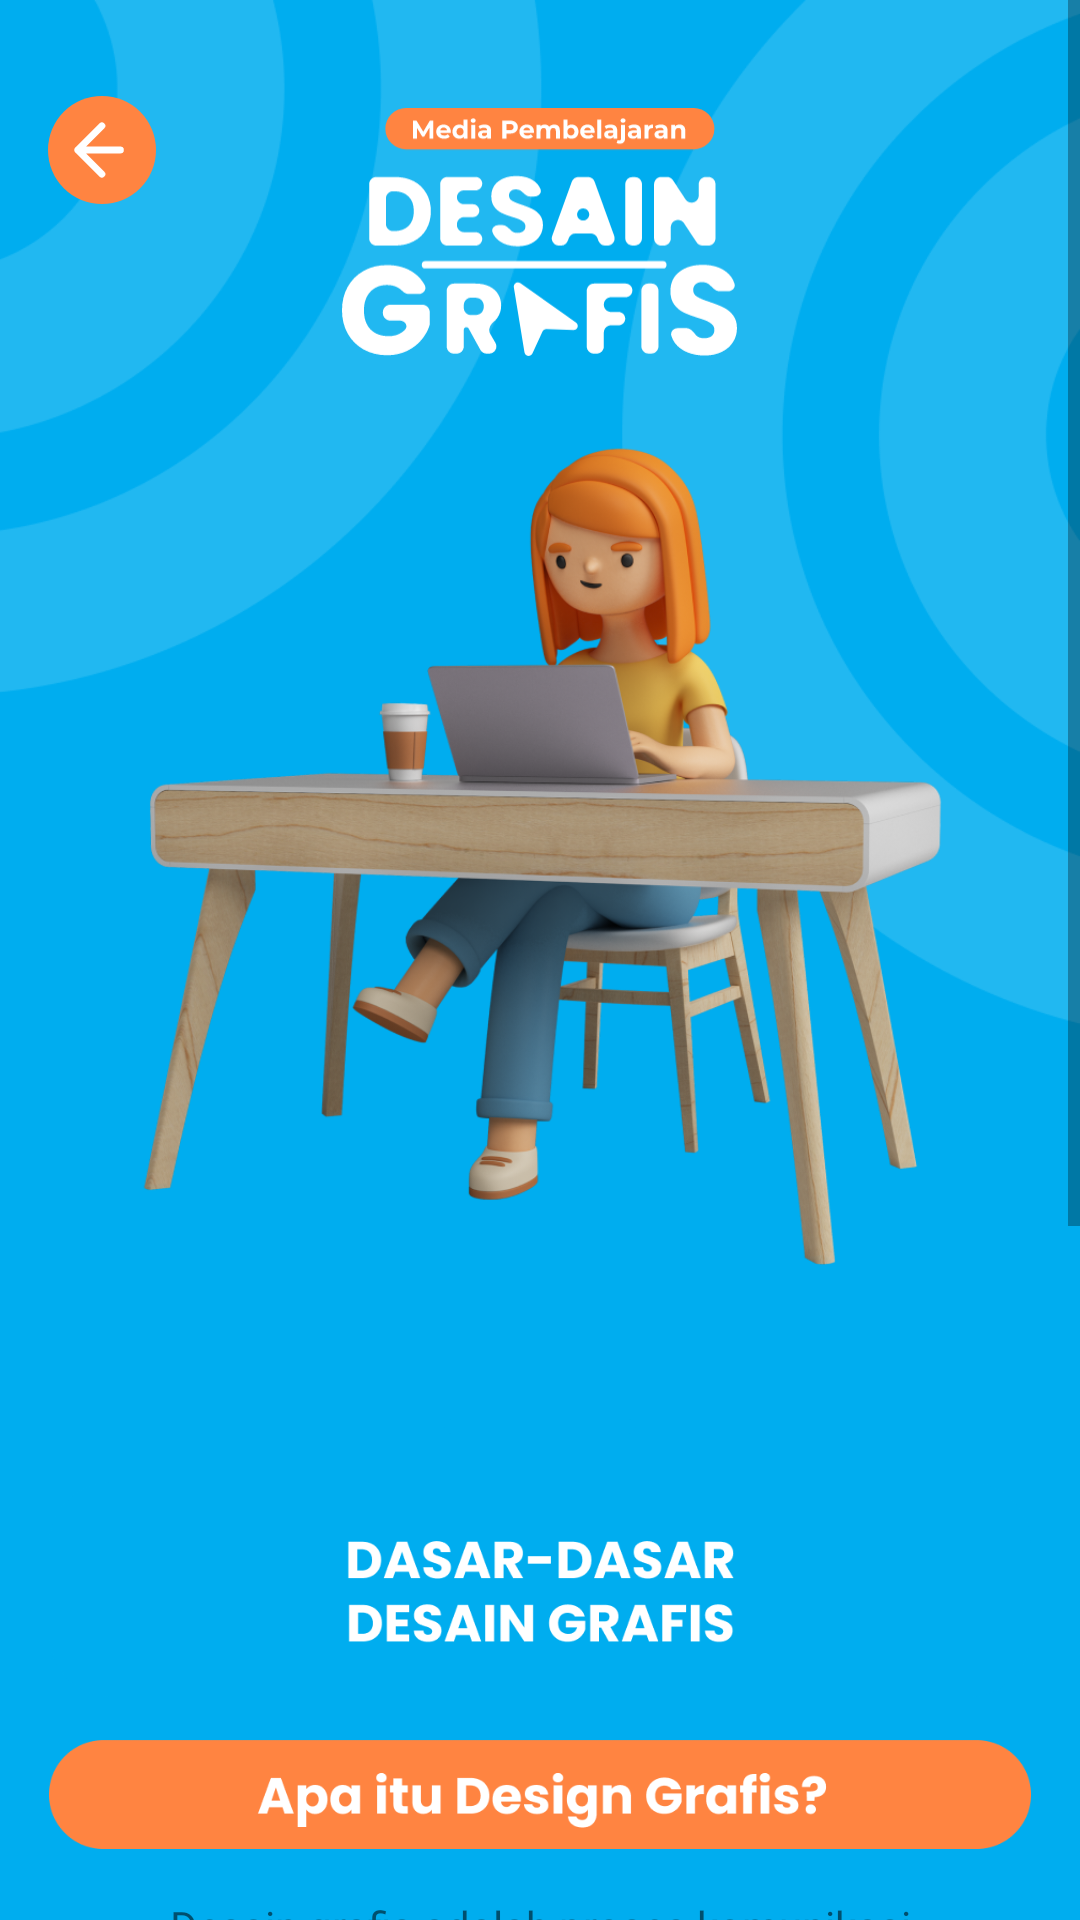

Screen size 1080*1920. Icon name, then its center in pixels as [x,y]:
back: [102,150]
